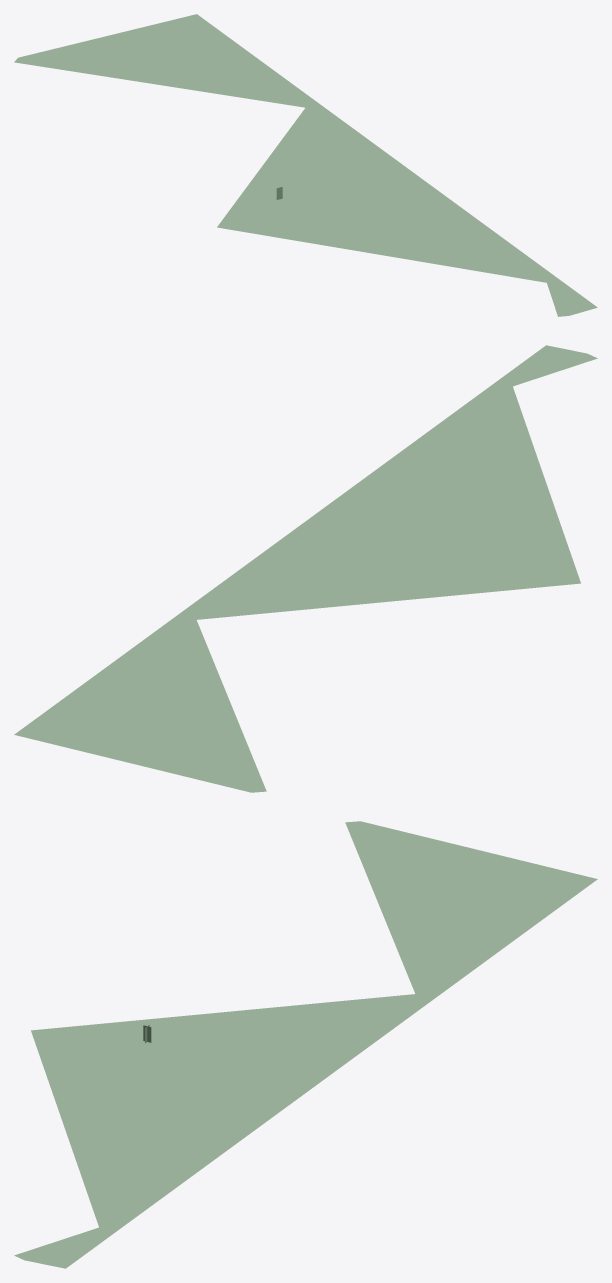
3 views of the same model, one above another, from view 1: azimuth 30°, elevation 25°; view 2: azimuth 150°, elevation 25°; view 3: azimuth 330°, elevation 25° (orthographic). The views are drawn at different scales.
Size of the model in its own units: 103 by 5.96 by 353.
